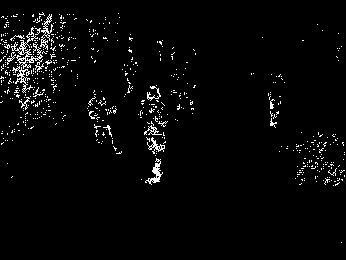person: (141, 85, 168, 186), (88, 88, 123, 158)
